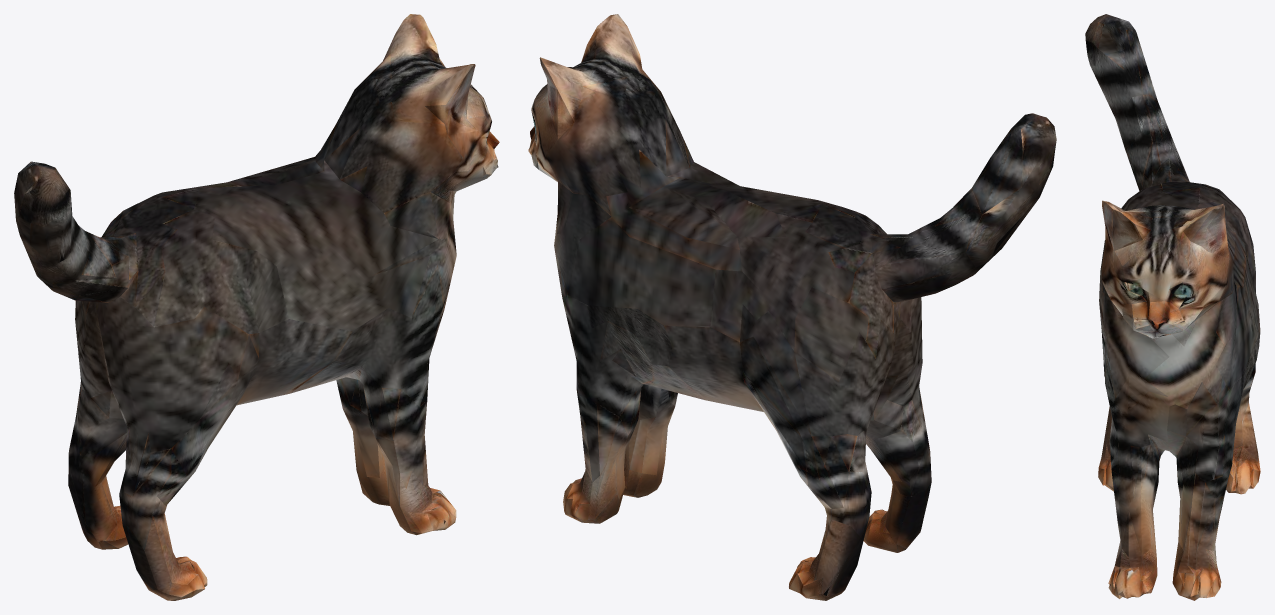
File: PICKLECCAT-lo.glb
3 renders of one model, left to right at view 1: azimuth 30°, elevation 25°; view 2: azimuth 150°, elevation 25°; view 3: azimuth 270°, elevation 25°, orthographic. The views are drawn at different scales.
Parts seen in each view (by area): view 1: output_unwrapped; view 2: output_unwrapped; view 3: output_unwrapped.
Part boxes in pixels (x1,y1,x2,y2): output_unwrapped: [14, 14, 499, 600]; output_unwrapped: [528, 14, 1056, 600]; output_unwrapped: [1085, 14, 1260, 600].
Size of the model in its own units: 1.13 by 0.998 by 0.3897.
1 material, 1 textured.
